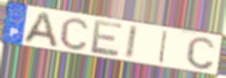A: (21, 11, 61, 50)
C: (184, 35, 217, 71), (58, 16, 90, 52)
E: (90, 18, 124, 58)
I: (124, 24, 140, 60), (157, 30, 169, 65)
